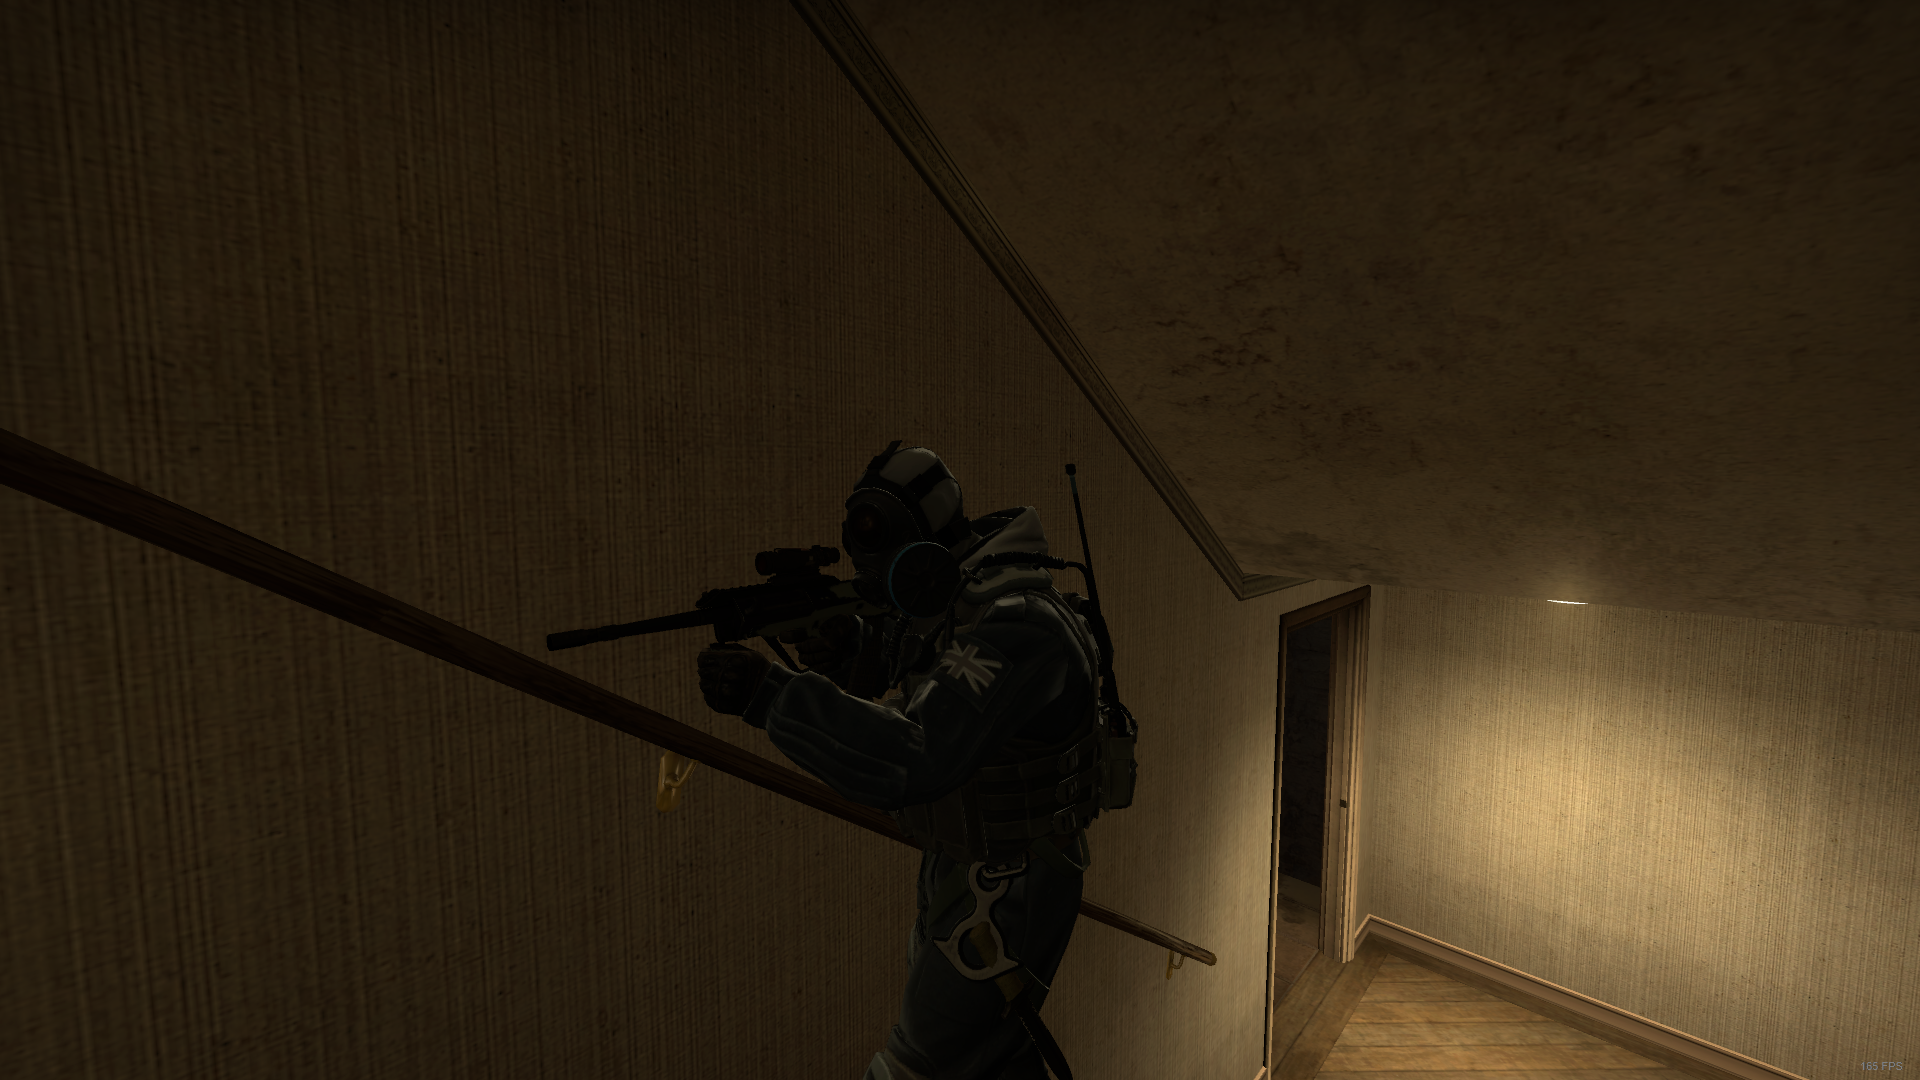ct: (698, 440, 1133, 1080)
